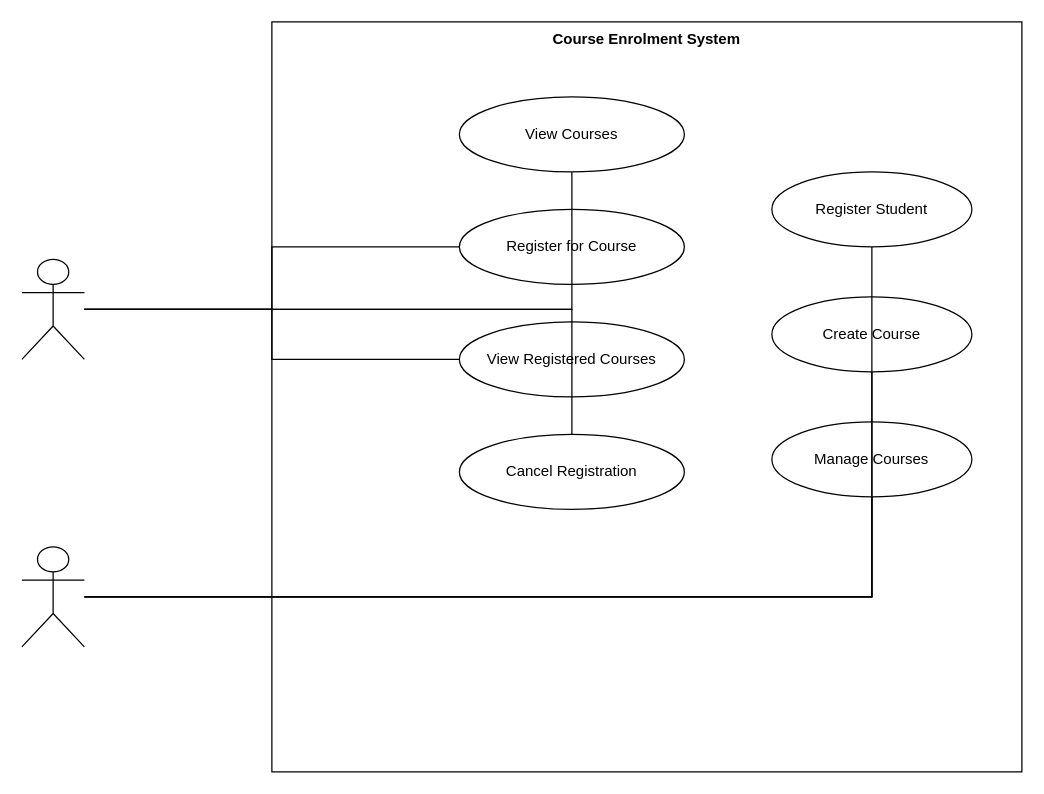
Image size: 1044x794. Some labels were removed from this diagram. Each missing label, with the box of its shape:
Admin: (21, 546, 84, 647)
Student: (21, 258, 84, 359)
